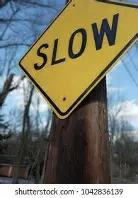Slow: (22, 0, 138, 110)
